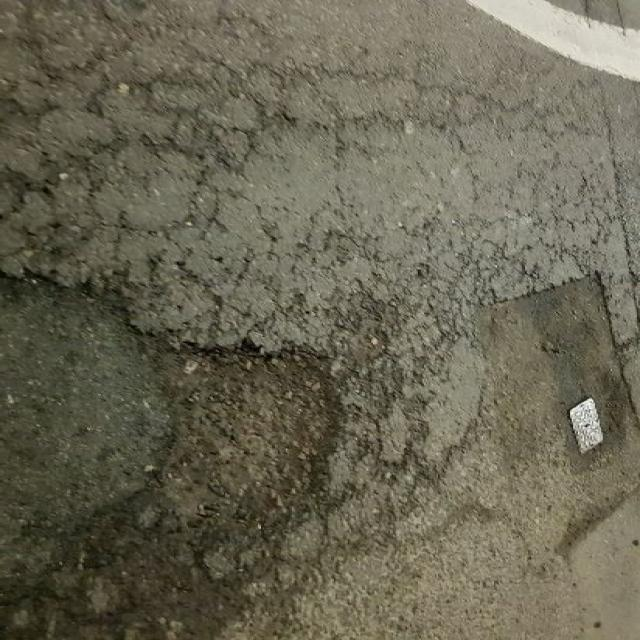pothole: (110, 337, 356, 536)
